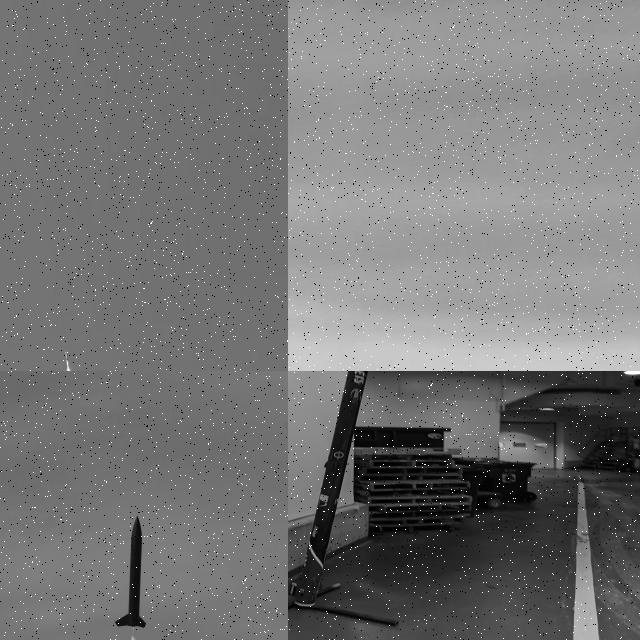Rocket: (288, 371, 369, 607), (115, 514, 148, 629), (65, 351, 68, 371)
